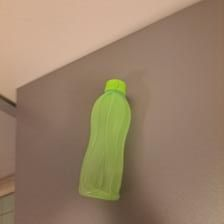bottle: (70, 77, 133, 206)
